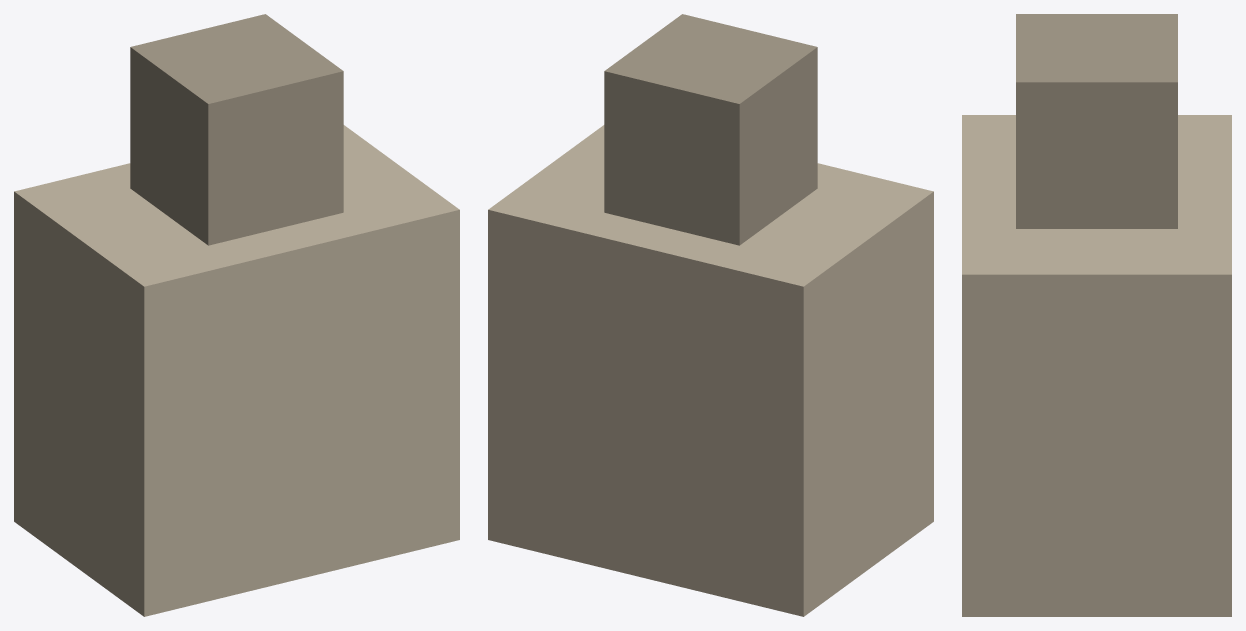
File: instrumento_musical_abeto_01.glb
The picture shows the model from 3 angles, left to right: view 1: azimuth 30°, elevation 25°; view 2: azimuth 150°, elevation 25°; view 3: azimuth 270°, elevation 25°; orthographic projection. The views are drawn at different scales.
Visible parts, largest first — view 1: instrumento_musical_abeto; view 2: instrumento_musical_abeto; view 3: instrumento_musical_abeto.
Part boxes in pixels (left/top/right/bottom): instrumento_musical_abeto: left=14, top=14, right=459, bottom=616; instrumento_musical_abeto: left=488, top=14, right=933, bottom=616; instrumento_musical_abeto: left=962, top=14, right=1231, bottom=616.
Size of the model in its own units: 0.5 by 0.7143 by 0.3571.
